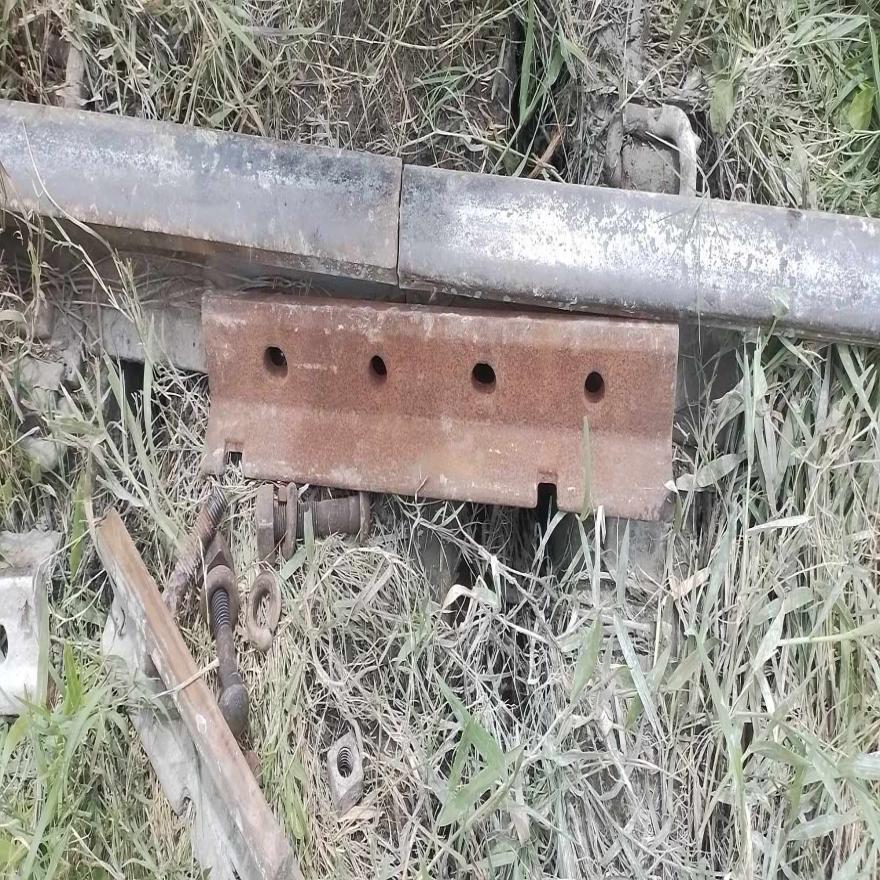railway-gap: (342, 112, 458, 331)
